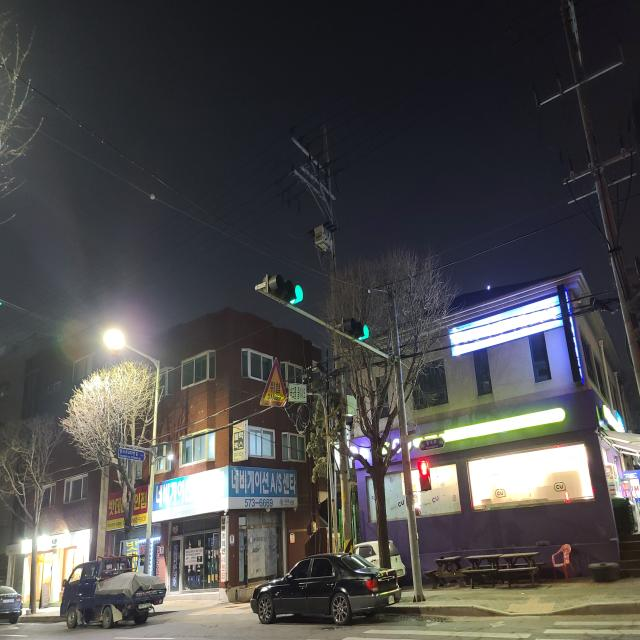Green Light: (290, 283, 304, 304), (359, 323, 370, 340)
